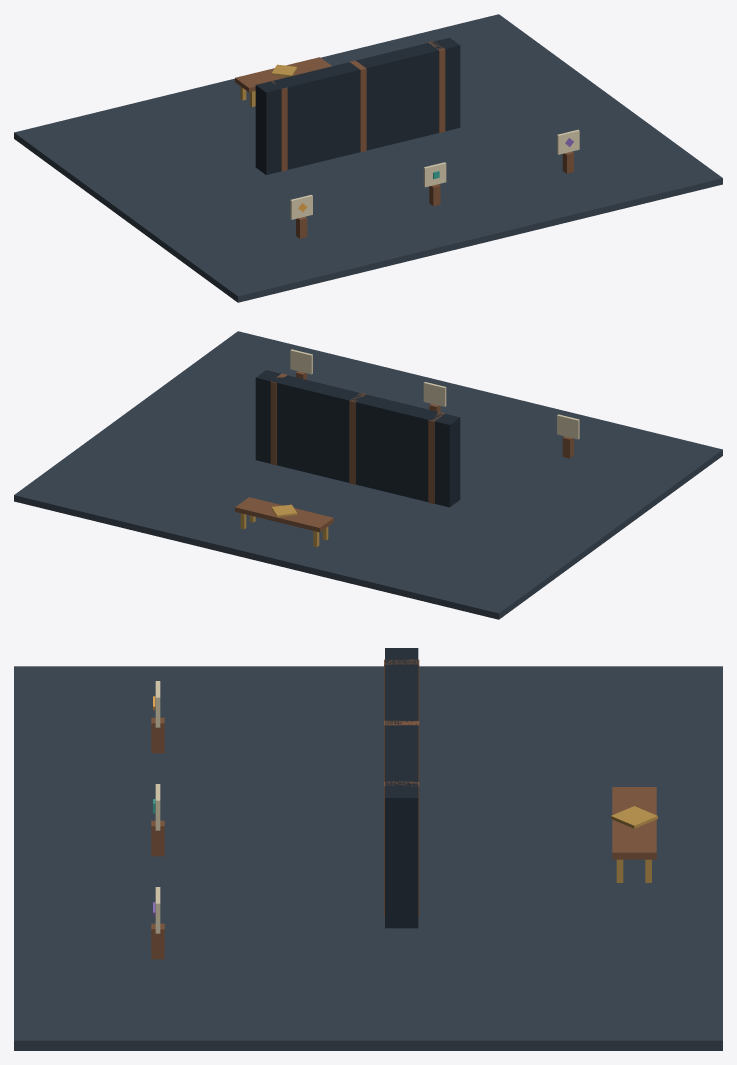
The model's file is forger_passage.glb.
3 renders of one model, top to bottom at view 1: azimuth 30°, elevation 25°; view 2: azimuth 150°, elevation 25°; view 3: azimuth 270°, elevation 25°, orthographic. The views are drawn at different scales.
Visible parts, largest first — view 1: forger_passage; view 2: forger_passage; view 3: forger_passage.
Boxes of the visible parts, bbox=[...] form: forger_passage: bbox=[14, 14, 722, 302]; forger_passage: bbox=[14, 331, 722, 619]; forger_passage: bbox=[14, 648, 722, 1050].
Bounding box in the file's own units: 80 × 14 × 64.
